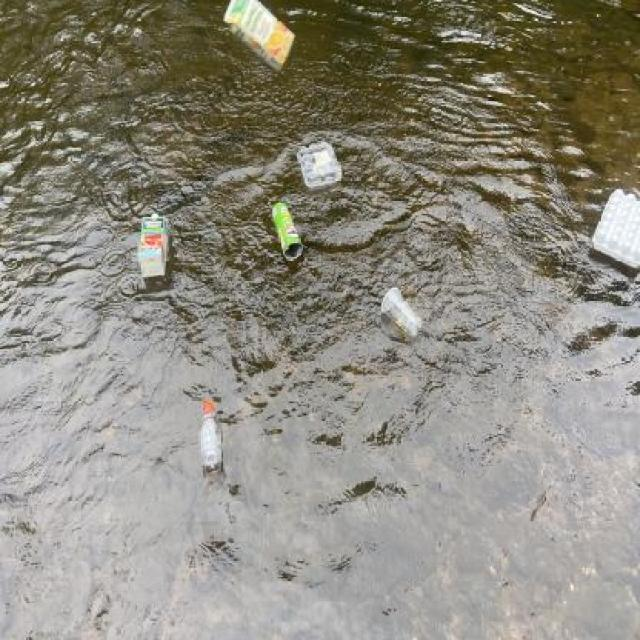Can-Metal: (269, 198, 306, 265)
Cardboard: (222, 0, 296, 78), (136, 208, 172, 282)
Plastic: (586, 184, 640, 276), (378, 279, 424, 339), (292, 137, 343, 191), (197, 396, 221, 476)
